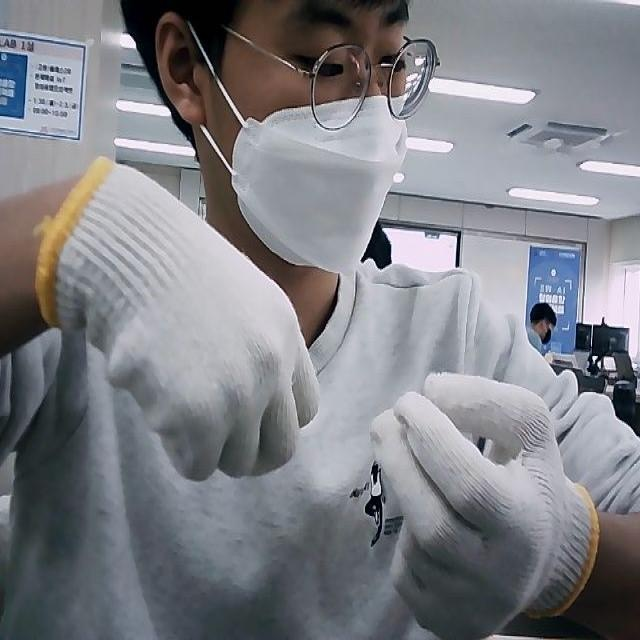Guantes: (35, 156, 320, 482), (369, 368, 601, 639)
